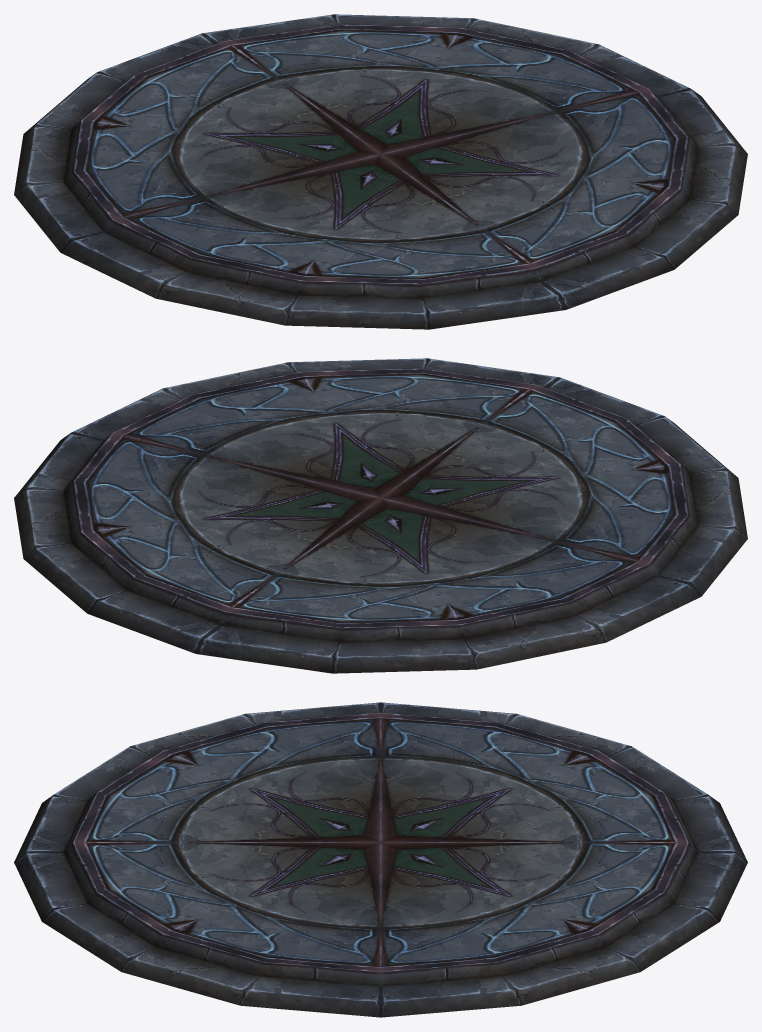
The model's file is B_yuantai01.fbx.
The picture shows the model from 3 angles, top to bottom: view 1: azimuth 30°, elevation 25°; view 2: azimuth 150°, elevation 25°; view 3: azimuth 270°, elevation 25°; orthographic projection.
Visible parts, largest first — view 1: B_yuantai01; view 2: B_yuantai01; view 3: B_yuantai01.
Boxes of the visible parts, box(x1,y1,x2,y2) form: B_yuantai01: box(14, 14, 747, 329); B_yuantai01: box(14, 358, 747, 673); B_yuantai01: box(14, 702, 747, 1017).
Bounding box in the file's own units: 564 × 16.89 × 564.
